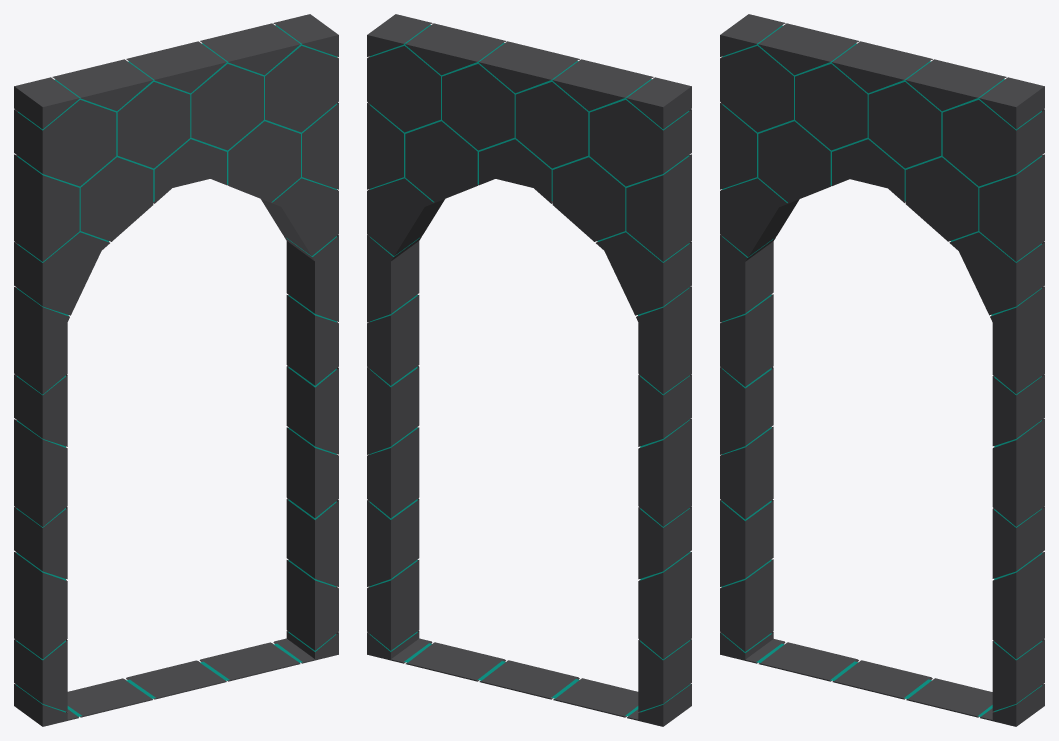
The model's file is HexagonGridDoorframe.glb.
The picture shows the model from 3 angles, left to right: view 1: azimuth 30°, elevation 25°; view 2: azimuth 150°, elevation 25°; view 3: azimuth 330°, elevation 25°; orthographic projection.
Parts seen in each view (by area): view 1: wall_hexagonGrid_door; view 2: wall_hexagonGrid_door; view 3: wall_hexagonGrid_door.
Part boxes in pixels (x1,y1,x2,y2): wall_hexagonGrid_door: [14, 14, 338, 726]; wall_hexagonGrid_door: [367, 14, 691, 726]; wall_hexagonGrid_door: [720, 14, 1044, 726].
Size of what is drawn, in the model's own units: 2 by 4 by 0.3346.
2 materials, 2 textured.
